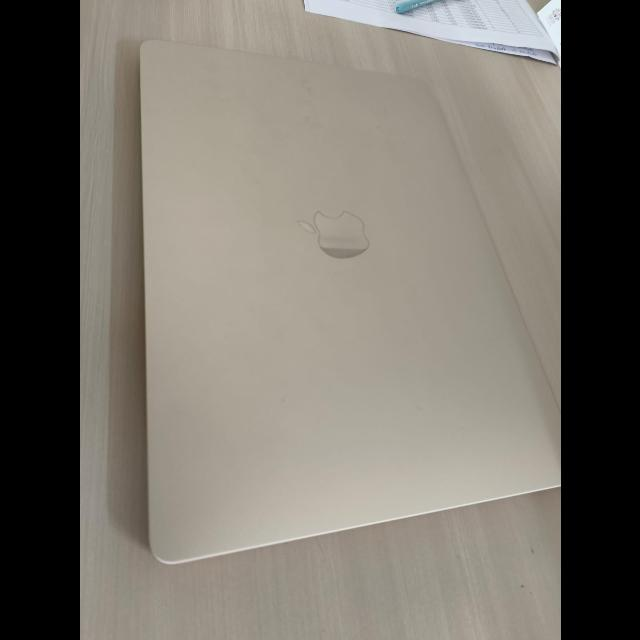laptop: (124, 27, 506, 586)
